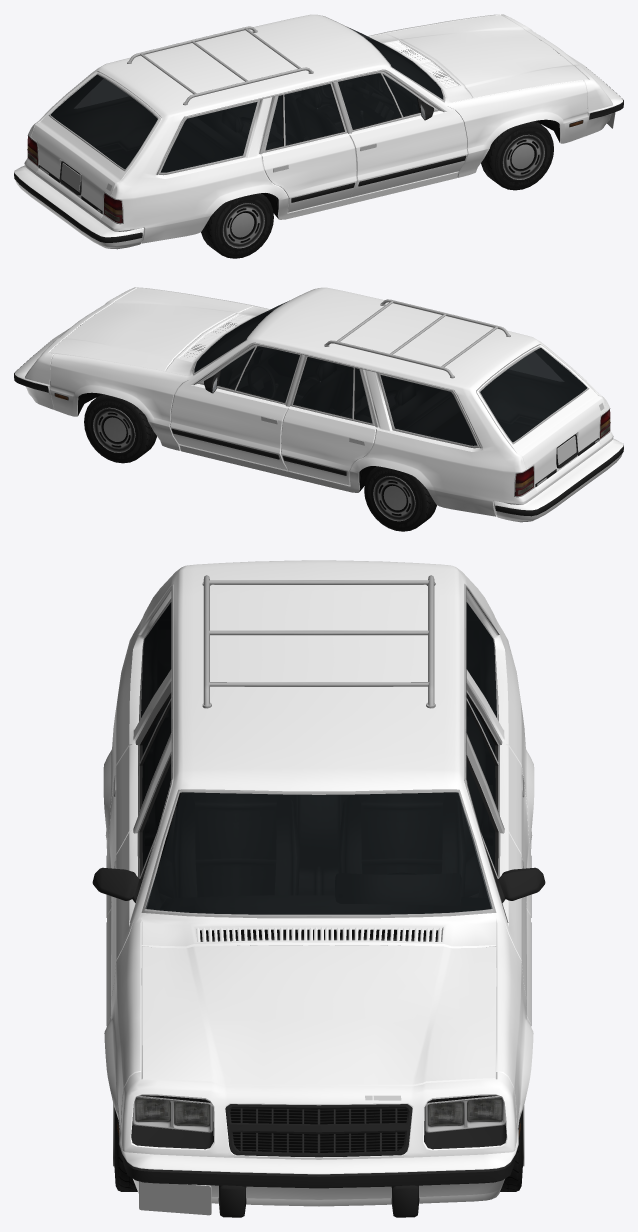
File: PioneerSW80.fbx
3 views of the same model, one above another, from view 1: azimuth 30°, elevation 25°; view 2: azimuth 150°, elevation 25°; view 3: azimuth 270°, elevation 25° (orthographic). The views are drawn at different scales.
Parts seen in each view (by area): view 1: Fairheaven_SW80_body001, Fairheaven_SW80_Interior001, Fairheaven_LT84_Hood001, Fairheaven_SW80_Glass_Body001, Fairheaven_LT80_Interior_Trim005, Fairheaven_SW80_Glass_Rear001, Fairheaven_SW84_Trim, Fairheaven_LT80_Trunkdoor001, Fairheaven_LT80_WheelStock_FR002, Fairheaven_LT80_WheelStock_RR002, Fairheaven_LT80_Glass_Passanger007, Fairheaven_LT84_Bumper_Rear001 (+10 smaller); view 2: Fairheaven_SW80_body001, Fairheaven_SW80_Interior001, Fairheaven_LT84_Hood001, Fairheaven_SW80_Glass_Body001, Fairheaven_LT80_Interior_Trim005, Fairheaven_SW80_Glass_Rear001, Fairheaven_SW84_Trim, Fairheaven_LT80_Trunkdoor001, Fairheaven_LT80_WheelStock_FL002, Fairheaven_LT80_WheelStock_RL002, Fairheaven_LT80_Glass_Driver007, Fairheaven_LT84_Bumper_Rear001 (+11 smaller); view 3: Fairheaven_SW80_body001, Fairheaven_LT84_Hood001, Fairheaven_LT80_Interior_Trim005, Fairheaven_LT80_Windshield006, Fairheaven_LT84_Front_Plate_Inner001, Fairheaven_SW84_Trim, Fairheaven_LT84_Front_Plate001, Fairheaven_LT84_Bumper_front001, Fairheaven_LT84_Bumper_front_Inner001, Fairheaven_SW80_Glass_Body001, Fairheaven_SW80_Roofrack001, Fairheaven_SW80_Interior001 (+5 smaller).
Part boxes in pixels (x1,y1,x2,y2): Fairheaven_SW80_body001: (24, 14, 587, 243); Fairheaven_SW80_Interior001: (51, 38, 442, 172); Fairheaven_LT84_Hood001: (384, 15, 588, 98); Fairheaven_SW80_Glass_Body001: (75, 79, 344, 172); Fairheaven_LT80_Interior_Trim005: (197, 42, 443, 150); Fairheaven_SW80_Glass_Rear001: (50, 74, 157, 169); Fairheaven_SW84_Trim: (27, 15, 466, 224); Fairheaven_LT80_Trunkdoor001: (31, 72, 161, 214); Fairheaven_LT80_WheelStock_FR002: (481, 121, 553, 190); Fairheaven_LT80_WheelStock_RR002: (201, 193, 273, 258); Fairheaven_LT80_Glass_Passanger007: (338, 73, 419, 129); Fairheaven_LT84_Bumper_Rear001: (14, 165, 143, 249); Fairheaven_SW80_body001: (50, 287, 613, 516); Fairheaven_SW80_Interior001: (197, 311, 586, 445); Fairheaven_LT84_Hood001: (49, 288, 253, 371); Fairheaven_SW80_Glass_Body001: (293, 352, 563, 445); Fairheaven_LT80_Interior_Trim005: (195, 318, 440, 423); Fairheaven_SW80_Glass_Rear001: (480, 348, 587, 442); Fairheaven_SW84_Trim: (171, 288, 610, 497); Fairheaven_LT80_Trunkdoor001: (476, 345, 606, 487); Fairheaven_LT80_WheelStock_FL002: (84, 394, 156, 463); Fairheaven_LT80_WheelStock_RL002: (364, 466, 436, 531); Fairheaven_LT80_Glass_Driver007: (218, 346, 299, 402); Fairheaven_LT84_Bumper_Rear001: (494, 439, 623, 522); Fairheaven_SW80_body001: (103, 560, 534, 1128); Fairheaven_LT84_Hood001: (141, 945, 496, 1086); Fairheaven_LT80_Interior_Trim005: (145, 716, 492, 914); Fairheaven_LT80_Windshield006: (145, 792, 492, 914); Fairheaven_LT84_Front_Plate_Inner001: (131, 1095, 506, 1157); Fairheaven_SW84_Trim: (92, 584, 545, 1025); Fairheaven_LT84_Front_Plate001: (121, 1072, 516, 1159); Fairheaven_LT84_Bumper_front001: (119, 1127, 518, 1206); Fairheaven_LT84_Bumper_front_Inner001: (119, 1145, 518, 1217); Fairheaven_SW80_Glass_Body001: (141, 602, 496, 803); Fairheaven_SW80_Roofrack001: (202, 575, 435, 708); Fairheaven_SW80_Interior001: (141, 620, 496, 910).
Bounding box in the file's own units: 5.03 × 1.4 × 1.86.
